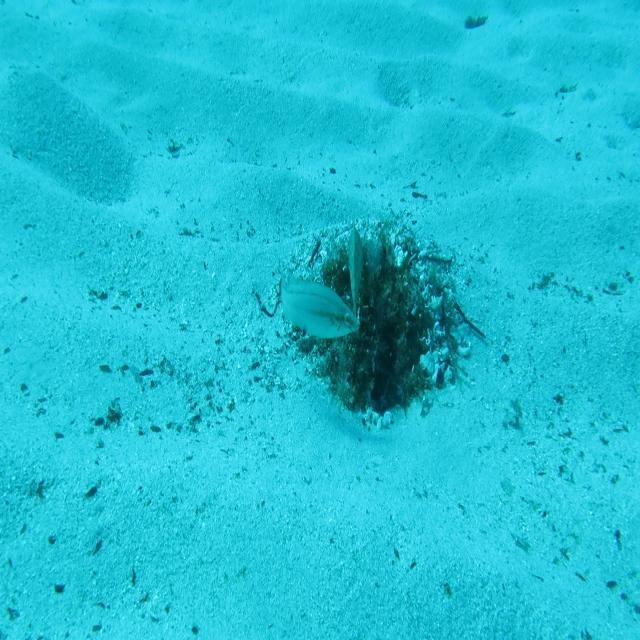NIP_IN: (343, 222, 368, 319)
core_nest: (356, 252, 401, 302)
female: (277, 260, 361, 342)
nest: (270, 210, 480, 439)
vegetation: (460, 12, 492, 32)
